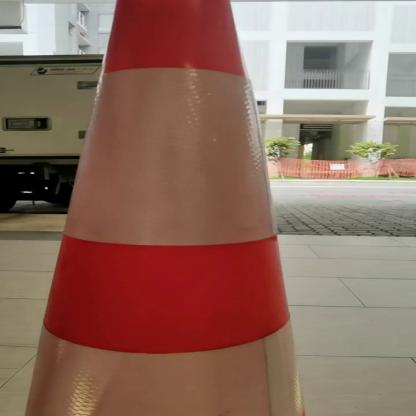cone: (6, 1, 334, 416)
